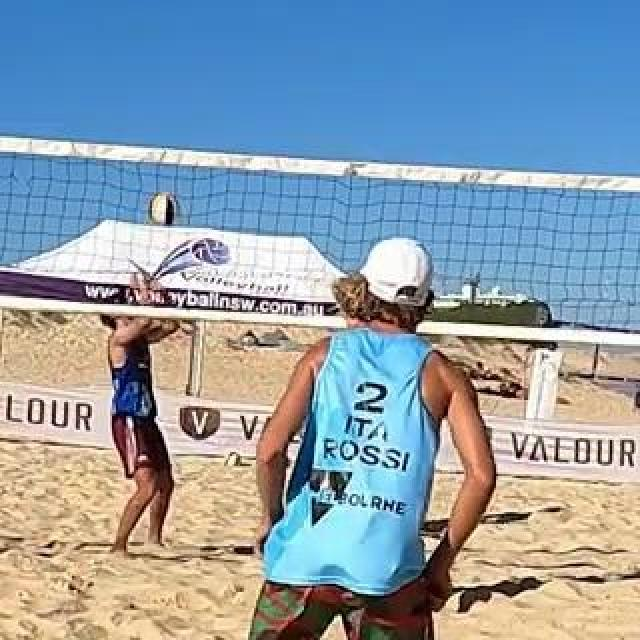volleyball: (150, 195, 178, 225), (223, 450, 243, 470)
